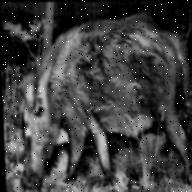boar: (11, 13, 190, 184)
